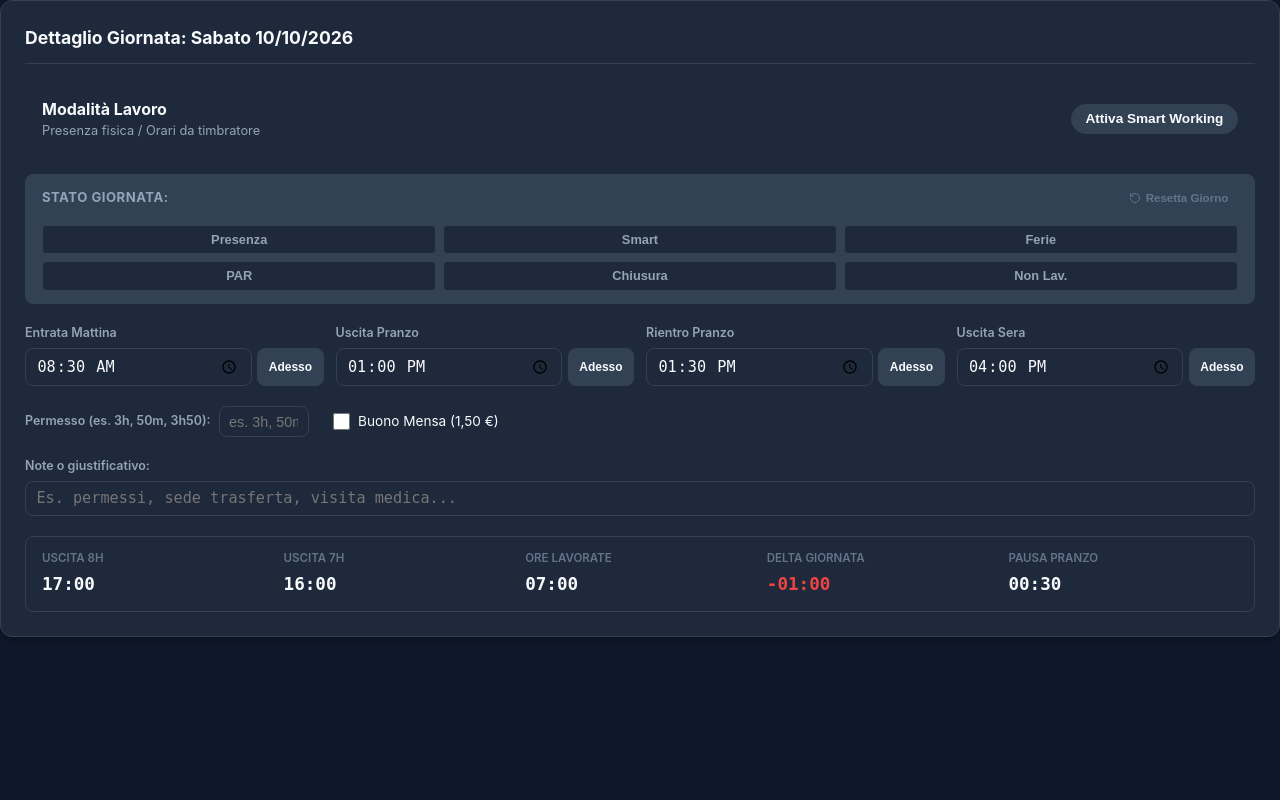
Test case: DayDetailCard Feature › recalculates worked time and delta when permissionMinutes is added
Check: the text with test id "detail-worked-time" reads "07:00", box [525, 574, 578, 594]
Check: the text with test id "detail-delta" reads "-01:00", box [767, 574, 830, 594]
Type "1h" into the field with test id "input-permissionMinutes".
click(264, 422); type("1h")  # box [218, 406, 308, 437]
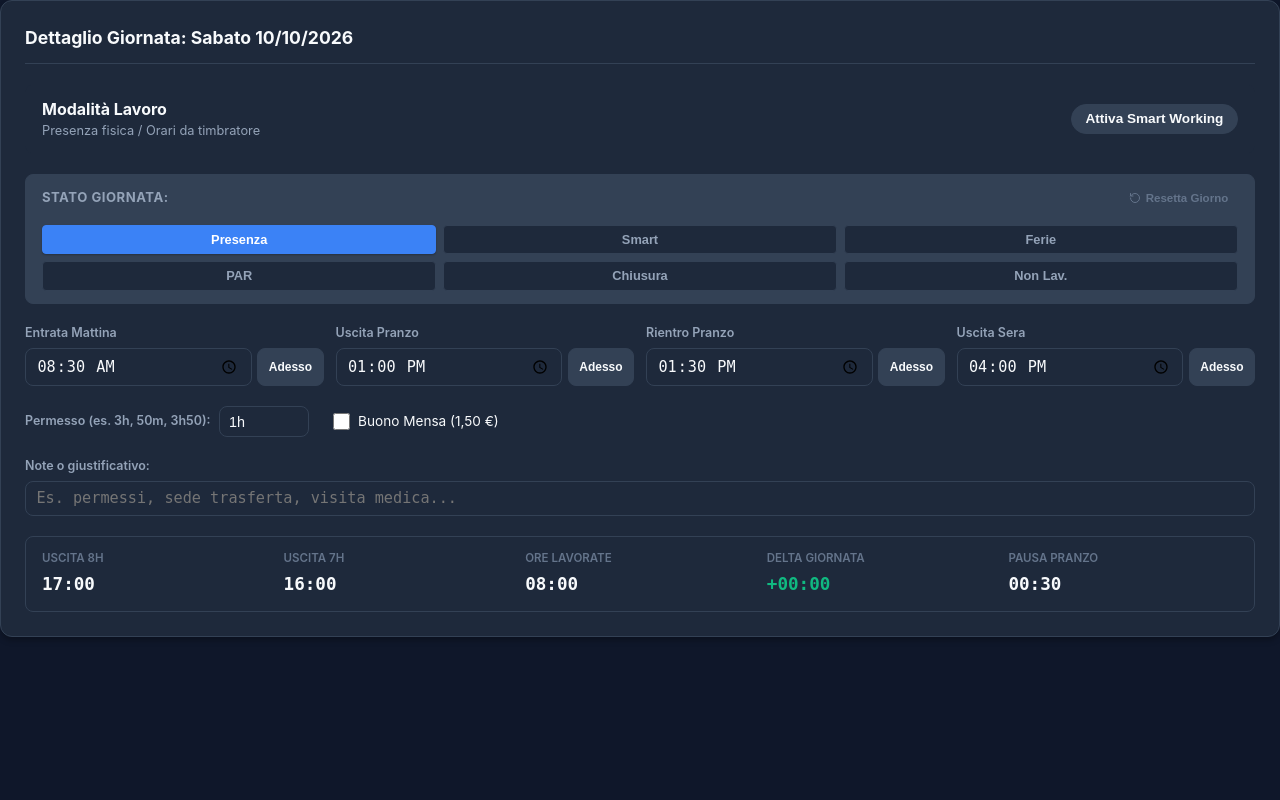
Check: the text with test id "detail-worked-time" reads "08:00", box [525, 574, 578, 594]
Check: the text with test id "detail-delta" reads "+00:00", box [767, 574, 830, 594]
